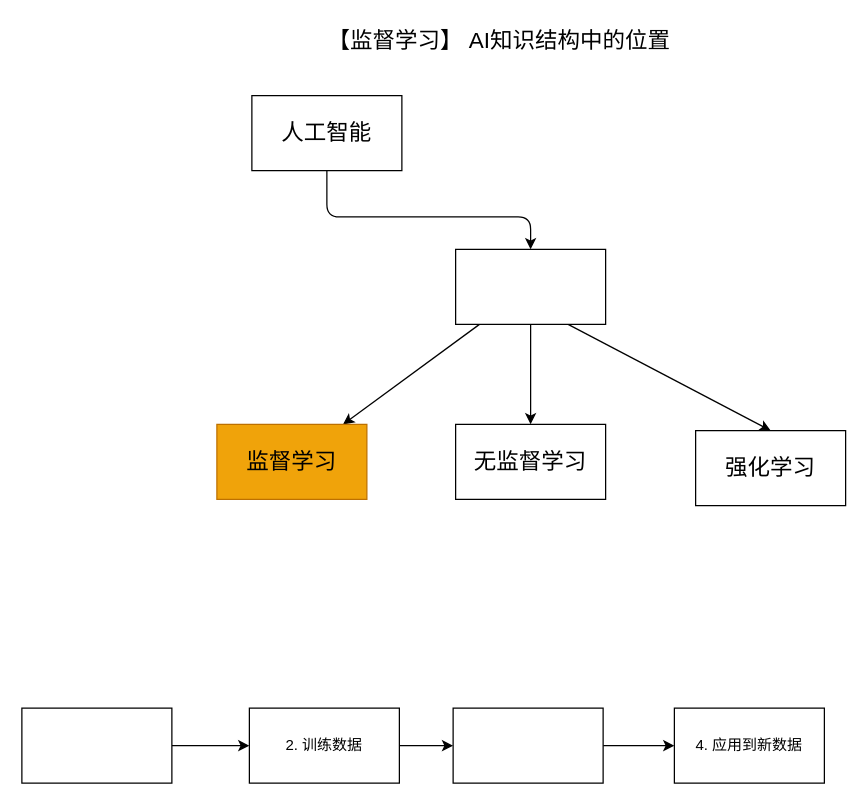
Image size: 868x805. Some labels were removed from this diagram. Each missing label, with the centre of its shape:
"1. AI模型" belongs at (96,745).
"3. 总结规律" belongs at (527,745).
"机器学习" belongs at (530,286).
